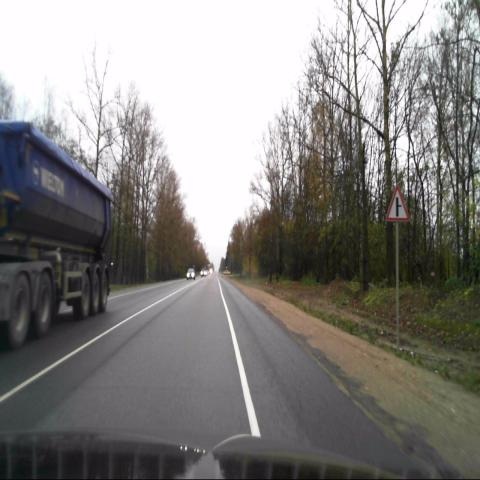2_3_2: (386, 185, 408, 222)
